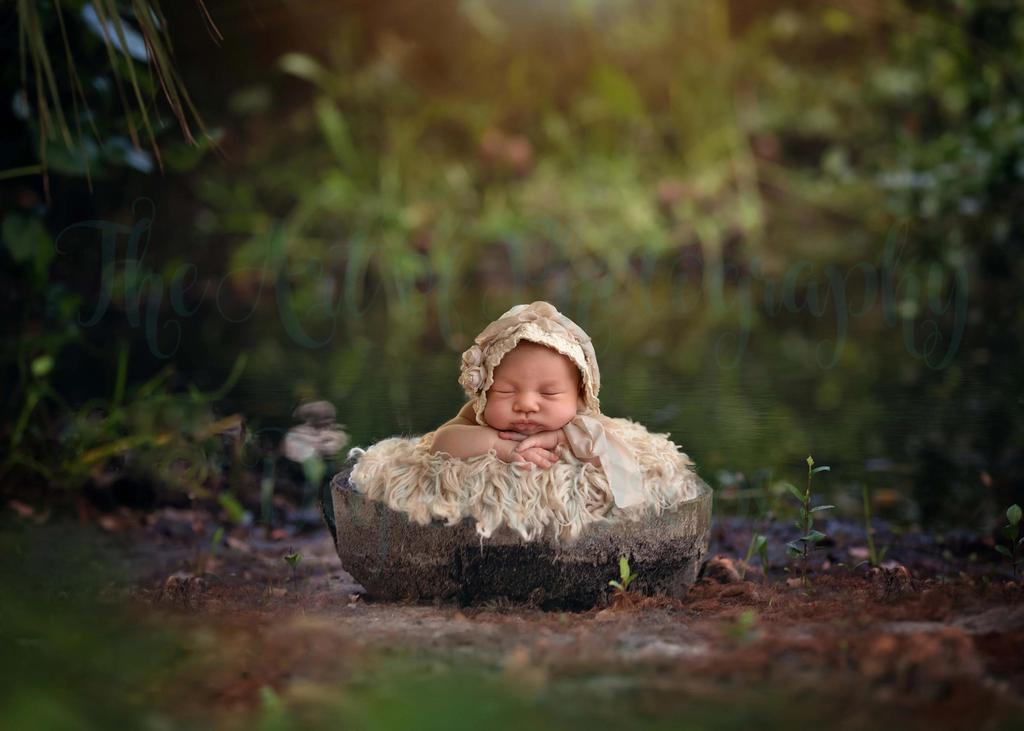child: (419, 302, 659, 489)
